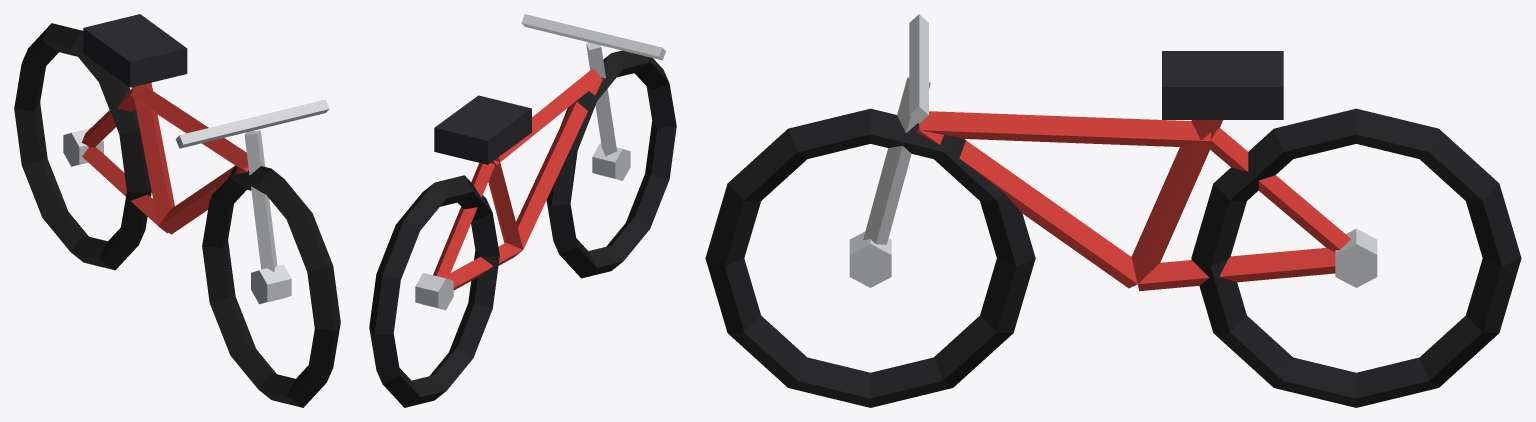
The model's file is bike.glb.
3 renders of one model, left to right at view 1: azimuth 30°, elevation 25°; view 2: azimuth 150°, elevation 25°; view 3: azimuth 270°, elevation 25°, orthographic. The views are drawn at different scales.
Parts seen in each view (by area): view 1: Bike_Tyre, Bike_Frame, Bike_Chrome, Bike_Seat; view 2: Bike_Tyre, Bike_Frame, Bike_Chrome, Bike_Seat; view 3: Bike_Tyre, Bike_Frame, Bike_Chrome, Bike_Seat.
Part boxes in pixels (<box>): Bike_Tyre: <box>14,23,340,407</box>; Bike_Frame: <box>81,82,248,234</box>; Bike_Chrome: <box>63,99,329,304</box>; Bike_Seat: <box>83,14,187,87</box>; Bike_Tyre: <box>369,50,676,407</box>; Bike_Frame: <box>433,69,602,290</box>; Bike_Chrome: <box>415,14,665,310</box>; Bike_Seat: <box>434,95,531,164</box>; Bike_Tyre: <box>705,108,1521,407</box>; Bike_Frame: <box>916,111,1350,291</box>; Bike_Chrome: <box>849,14,1377,287</box>; Bike_Seat: <box>1162,51,1283,119</box>.
Bounding box in the file's own units: 1.8 × 3.16 × 6.72.
